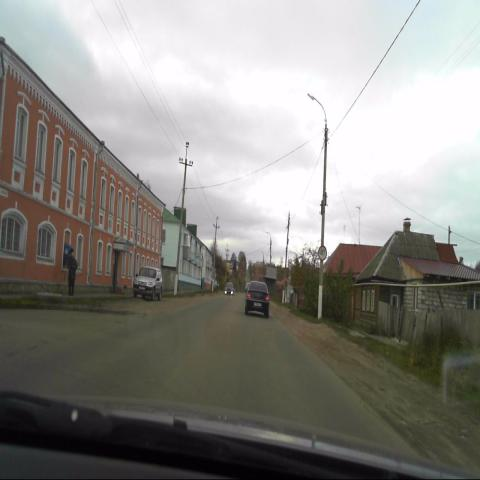3_24: (318, 245, 328, 262)
